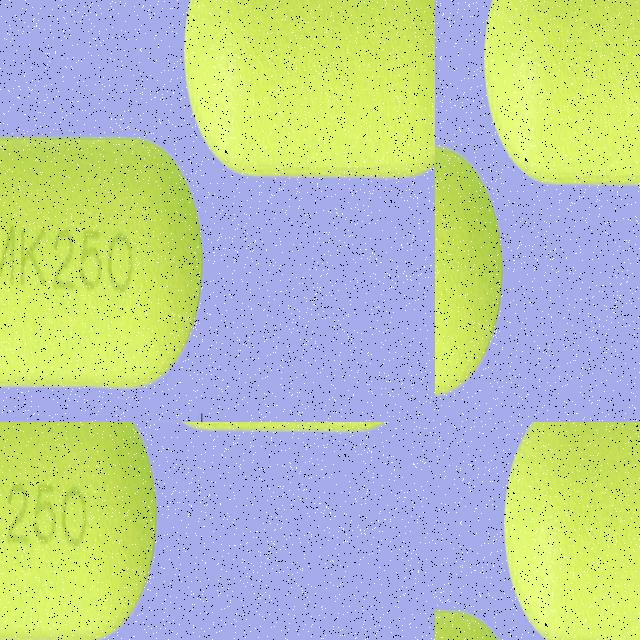Claridon: (0, 116, 201, 395), (182, 0, 435, 201)
Clarithromycin Tab- Dongkwang: (0, 462, 211, 640)
Claroma Tab-500mg: (435, 216, 594, 422)
Craycin - 500mg: (503, 422, 640, 640)
